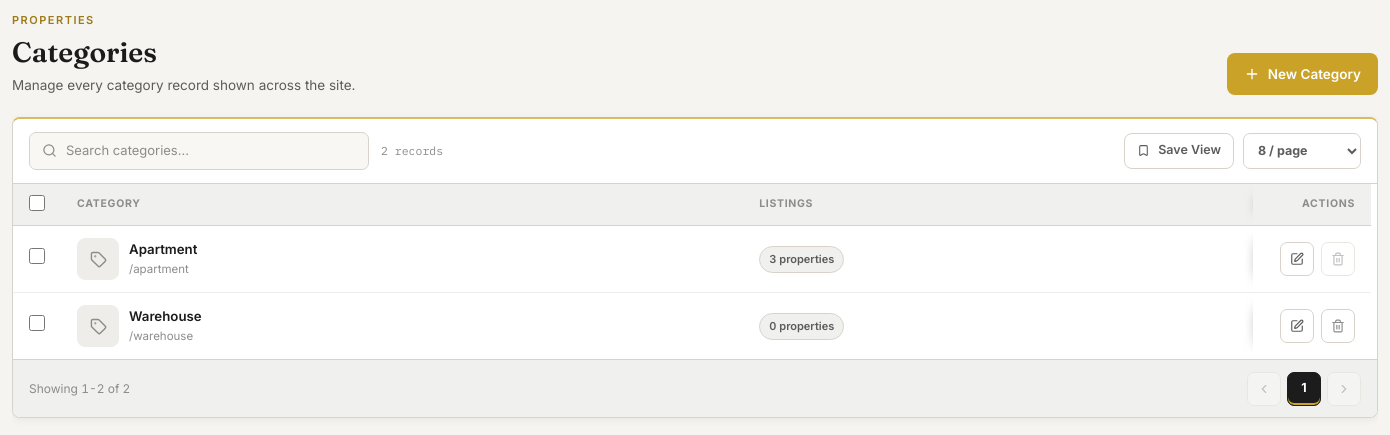
Test: LookupManager › blocks deletion when a category still owns properties
What coordinates should you click on to do the following:
click the button named "Delete Apartment"
I would click on:
 (1338, 259)
Its box is x1=1321 y1=242 x2=1355 y2=276.
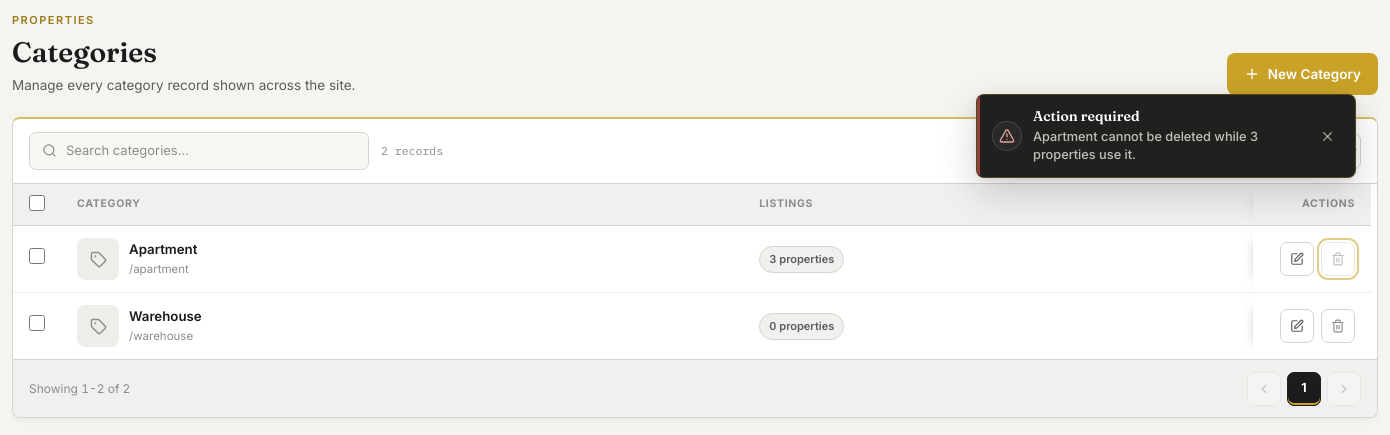
Expected: the message shows "Apartment cannot be deleted while 3 properties use it.", x1=1033 y1=128 x2=1258 y2=162
